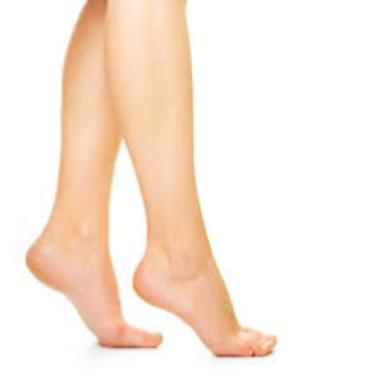normal skin: (27, 0, 276, 356)
